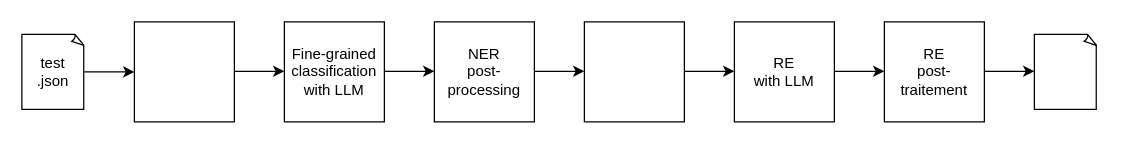
Image size: 1124x144. Some labels were removed from this diagram. The shapes that lost their labels are listed below. From the top down, each one's centre as x and y in pixels, then its label:
the point at 183,71: NER with Camembert bio GLiNER
the point at 633,71: NER results exploration
the point at 1065,71: predictions .json
